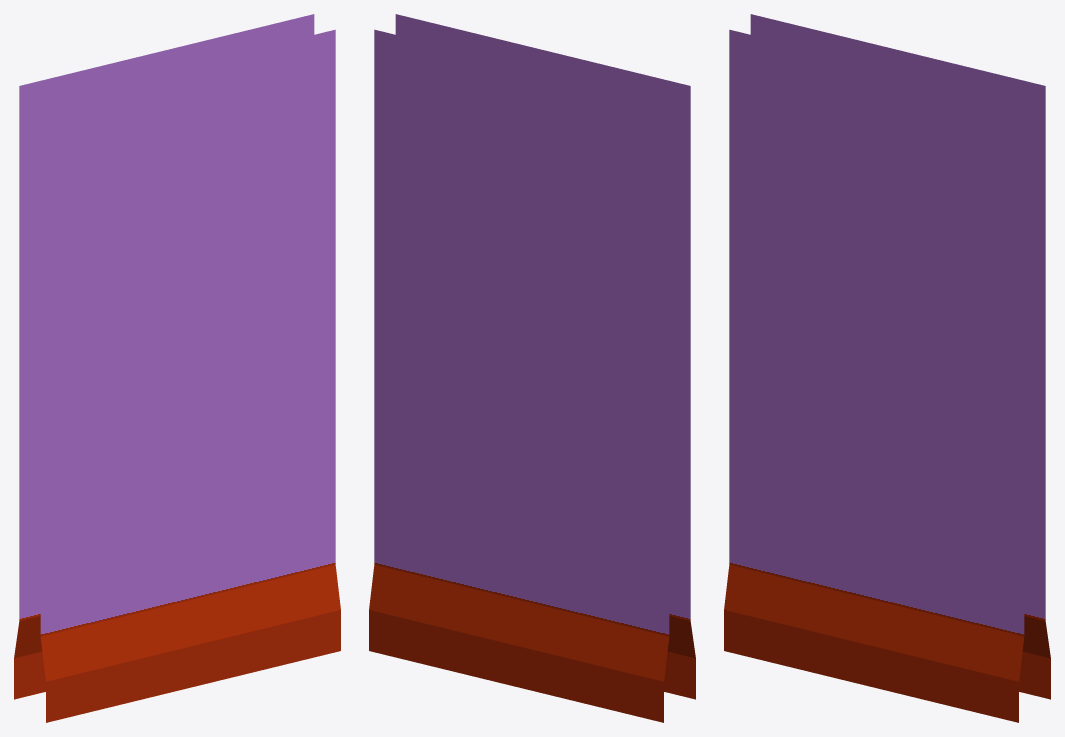
Rendered from CartoonWall1.gltf.
3 renders of one model, left to right at view 1: azimuth 30°, elevation 25°; view 2: azimuth 150°, elevation 25°; view 3: azimuth 330°, elevation 25°, orthographic.
Parts seen in each view (by area): view 1: cuboid; view 2: cuboid; view 3: cuboid.
Part boxes in pixels (x1=…): cuboid: x1=14, y1=14, x2=340, y2=722; cuboid: x1=369, y1=14, x2=695, y2=722; cuboid: x1=724, y1=14, x2=1050, y2=722.
Bounding box in the file's own units: 2 × 4 × 0.375.
Materials: 1 (1 with a texture image).
